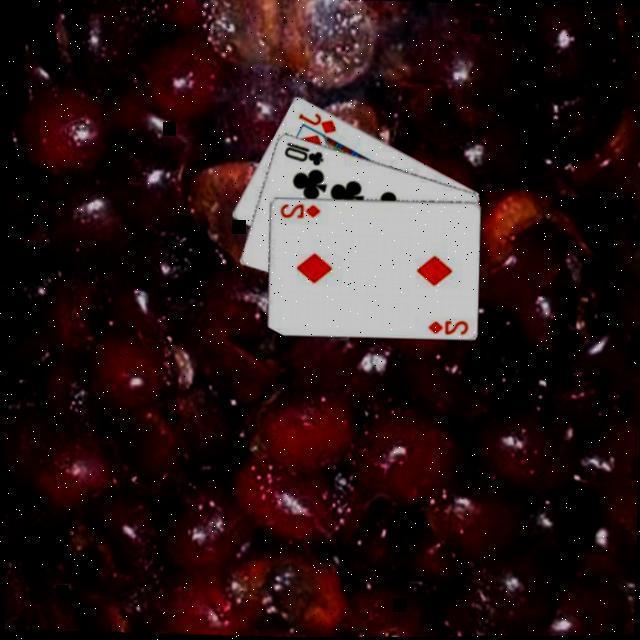10C: (280, 136, 328, 166)
2D: (277, 197, 323, 219), (425, 314, 471, 336)
JD: (294, 107, 340, 134)
